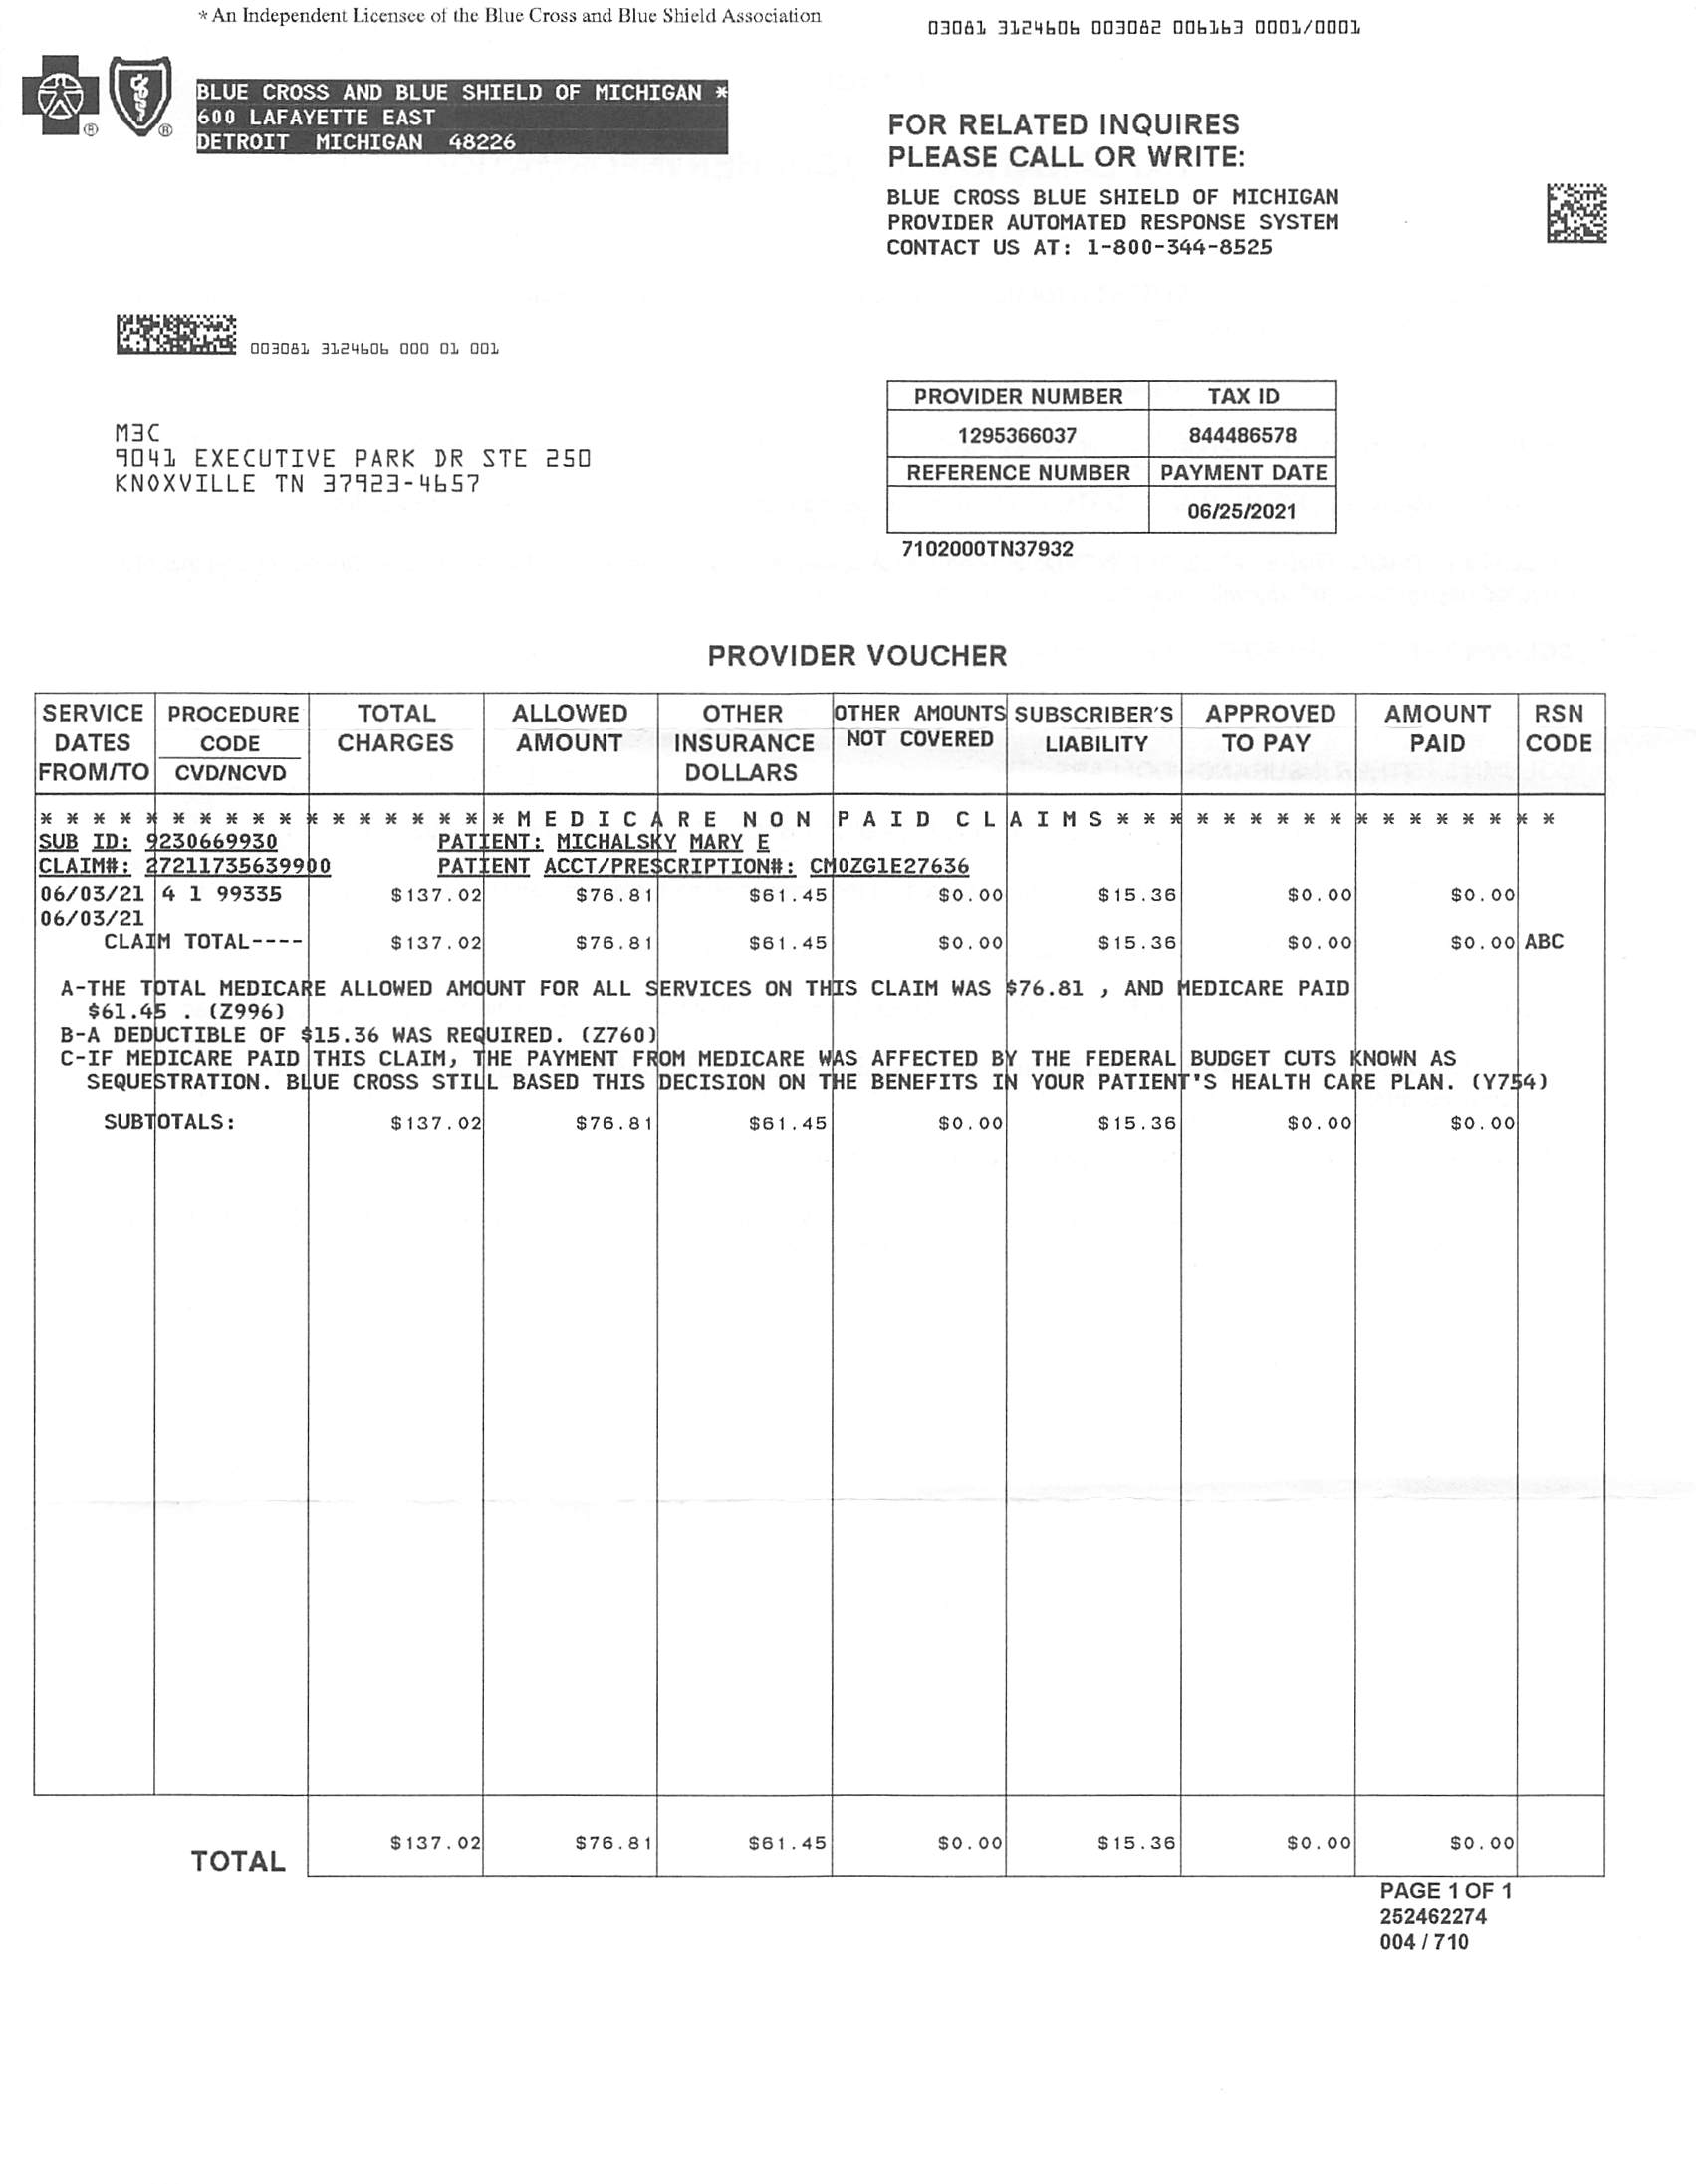table: (19, 679, 1623, 970), (881, 367, 1356, 541)
